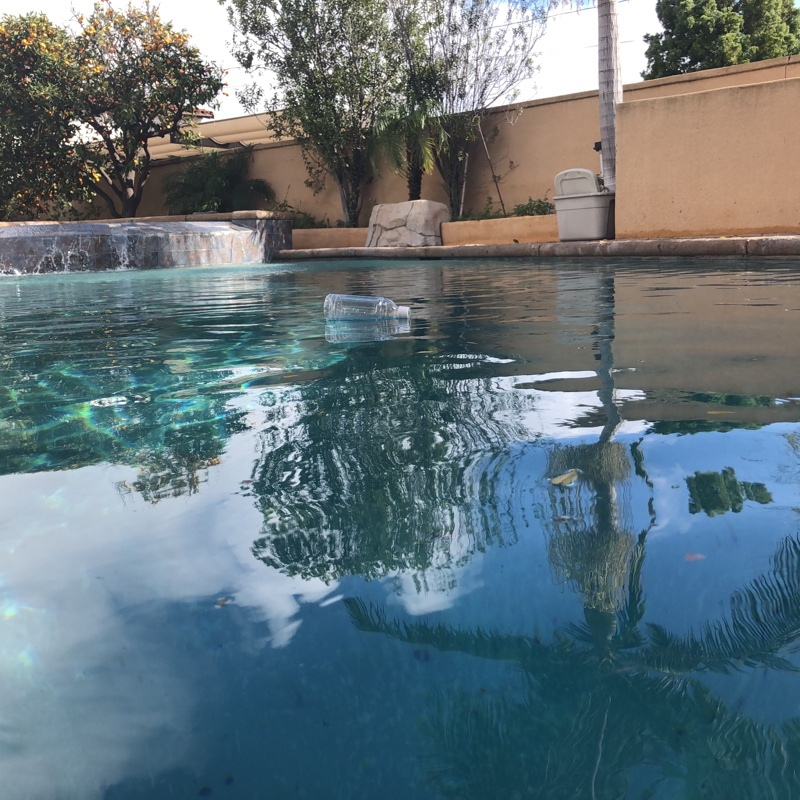Plastic Bottle: (324, 292, 410, 321)
